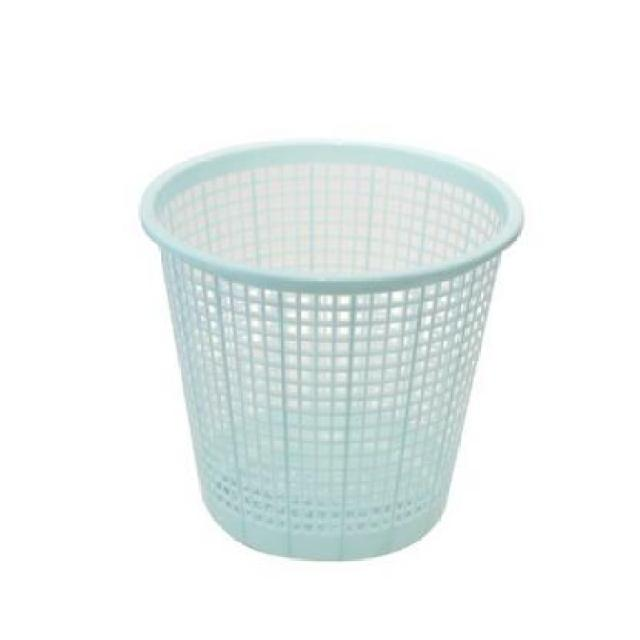dustbin: (135, 135, 528, 568)
